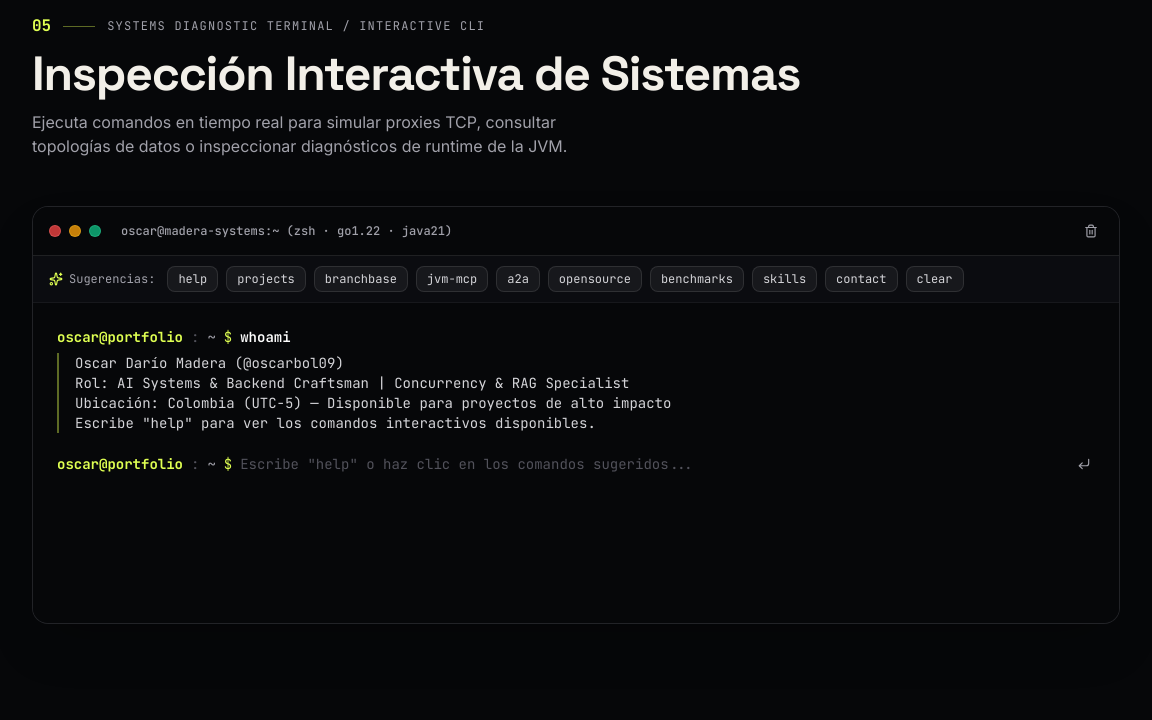
Scenario: Component: TerminalSection Integration › should display error message for unrecognized commands and block prototype pollution safely
(page scrolled)
// Test prototype property attempt (CVE / DoS mitigation)
Type "__proto__" into the field with placeholder "Escribe \"help\" o haz clic en los comandos sugeridos...".
click(653, 464); type("__proto__")  # box [240,454,1065,474]
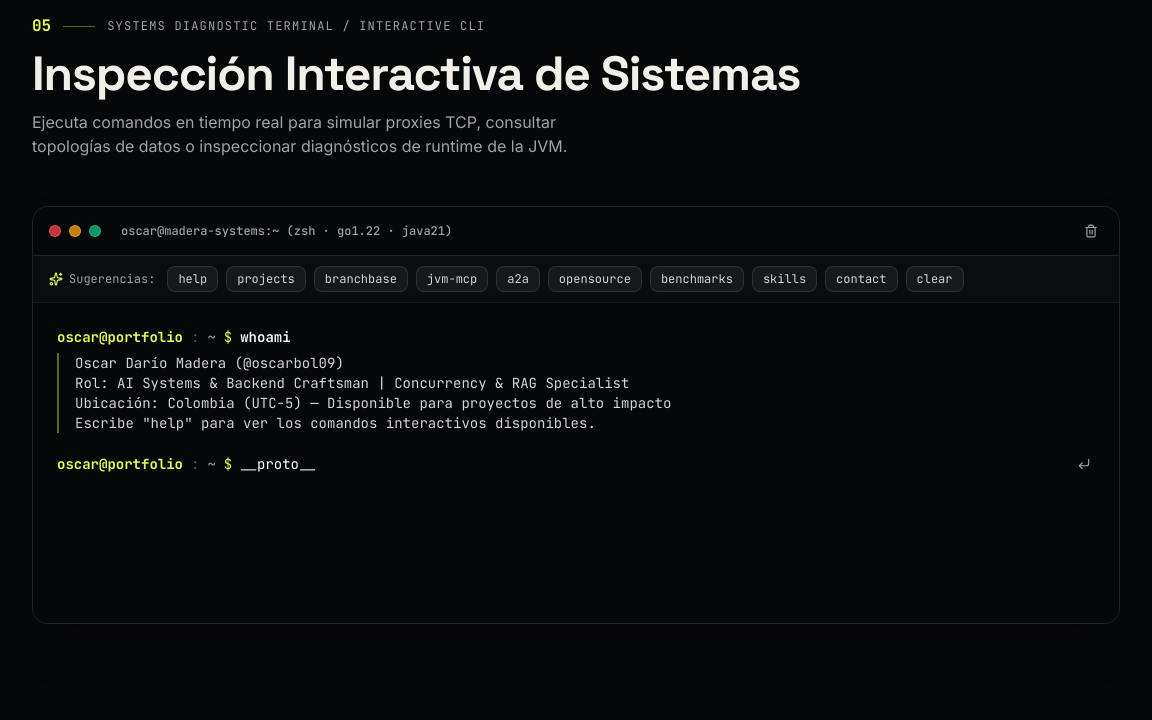
Press Enter in the field with placeholder "Escribe \"help\" o haz clic en los comandos sugeridos...", box [240,454,1065,474]
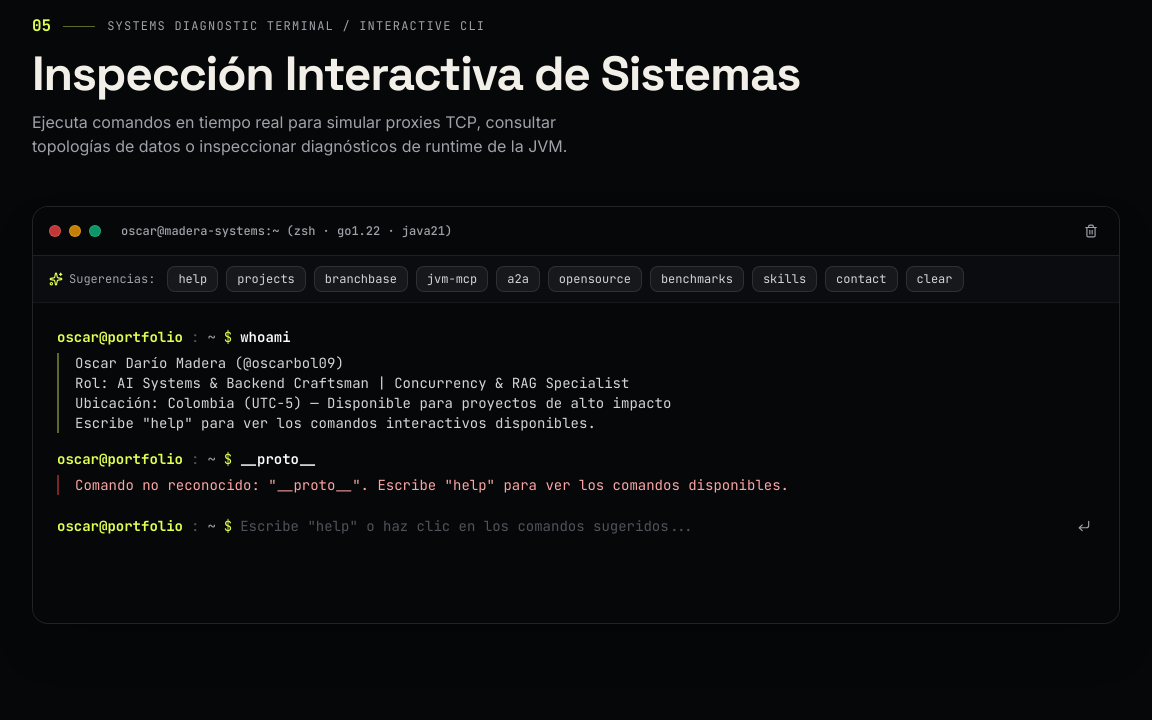
expect the text "Comando no reconocido: \"__proto__\"" is shown: met, box [75,476,789,494]
